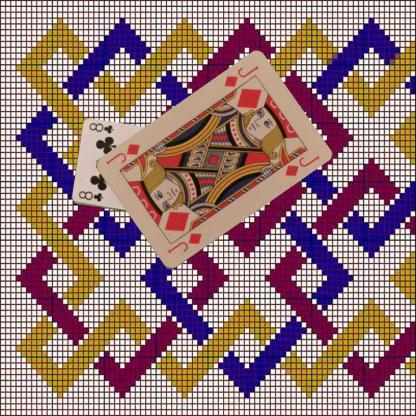8c: (76, 188, 104, 203)
Jd: (221, 64, 260, 89), (164, 231, 202, 256)
